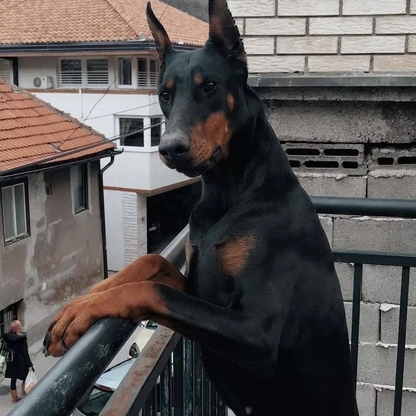doberman: (51, 7, 371, 411)
